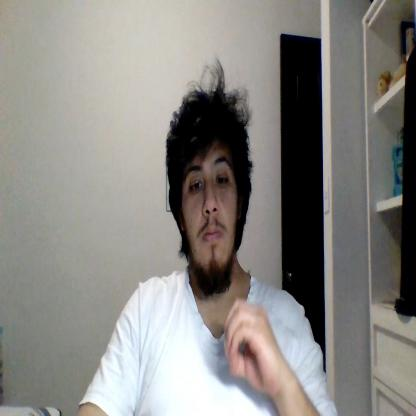O: (225, 298, 278, 392)
